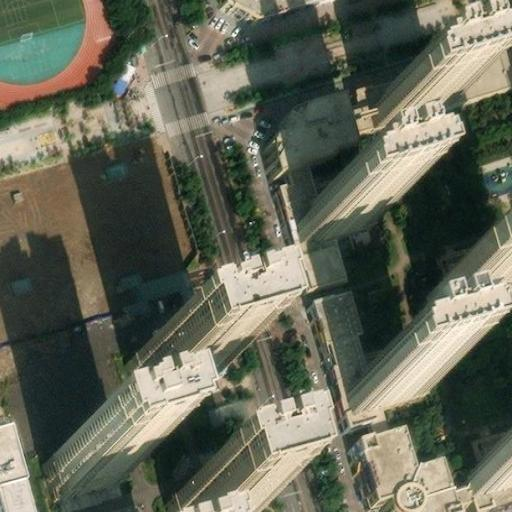building: (278, 37, 512, 280), (358, 414, 512, 512), (314, 282, 388, 418), (134, 329, 221, 391), (52, 431, 137, 490), (301, 180, 387, 237), (348, 350, 434, 407), (365, 73, 450, 130), (434, 247, 512, 304), (175, 472, 253, 512), (101, 58, 137, 100), (0, 430, 21, 491)
